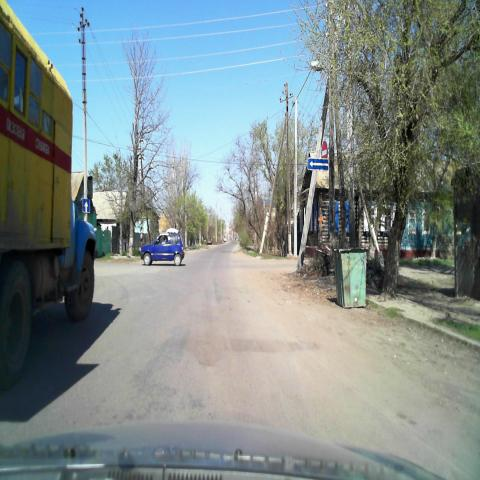5_5: (82, 198, 91, 214)
5_7_2: (308, 156, 328, 170)
